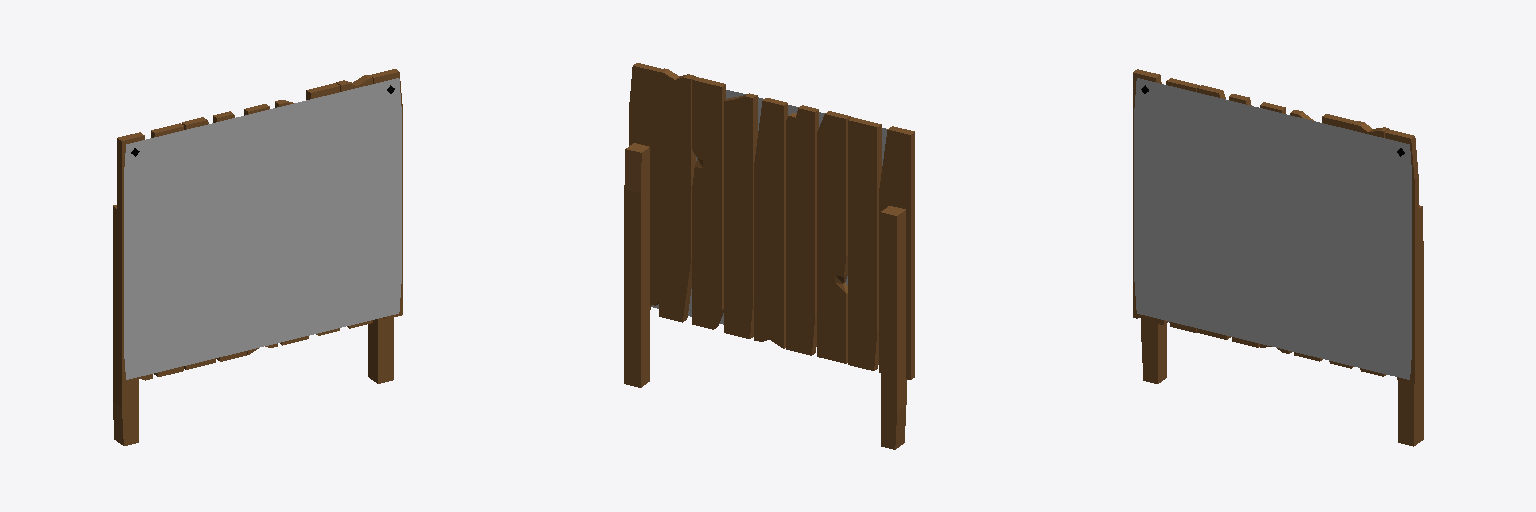
The model's file is messageBoard.obj.
The picture shows the model from 3 angles: view 1: azimuth 30°, elevation 25°; view 2: azimuth 150°, elevation 25°; view 3: azimuth 330°, elevation 25°; orthographic projection.
Parts seen in each view (by area): view 1: BoardPaper, BoardWood; view 2: BoardWood, BoardPaper; view 3: BoardPaper, BoardWood.
Boxes of the visible parts, x1=… form: BoardPaper: x1=124, y1=78, x2=401, y2=379; BoardWood: x1=113, y1=69, x2=402, y2=445; BoardWood: x1=624, y1=63, x2=914, y2=449; BoardPaper: x1=651, y1=90, x2=886, y2=324; BoardPaper: x1=1134, y1=78, x2=1411, y2=379; BoardWood: x1=1133, y1=69, x2=1423, y2=446.
Size of the model in its own units: 6.57 by 6.95 by 0.6025.